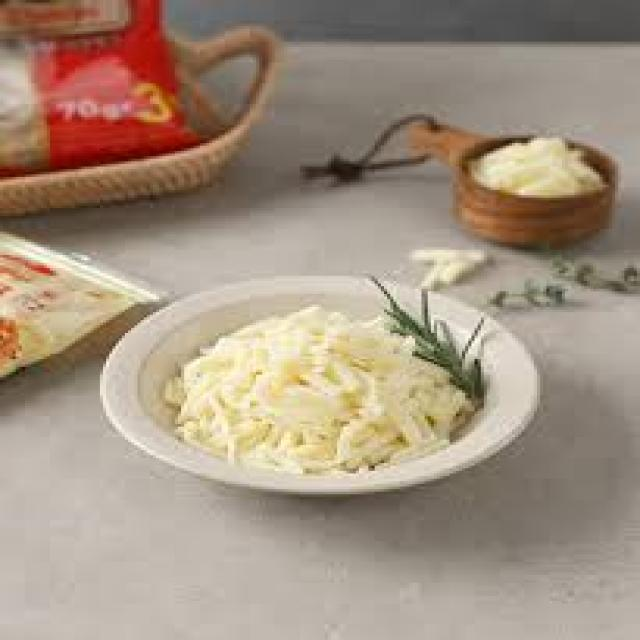Cheese: (188, 318, 446, 460)
